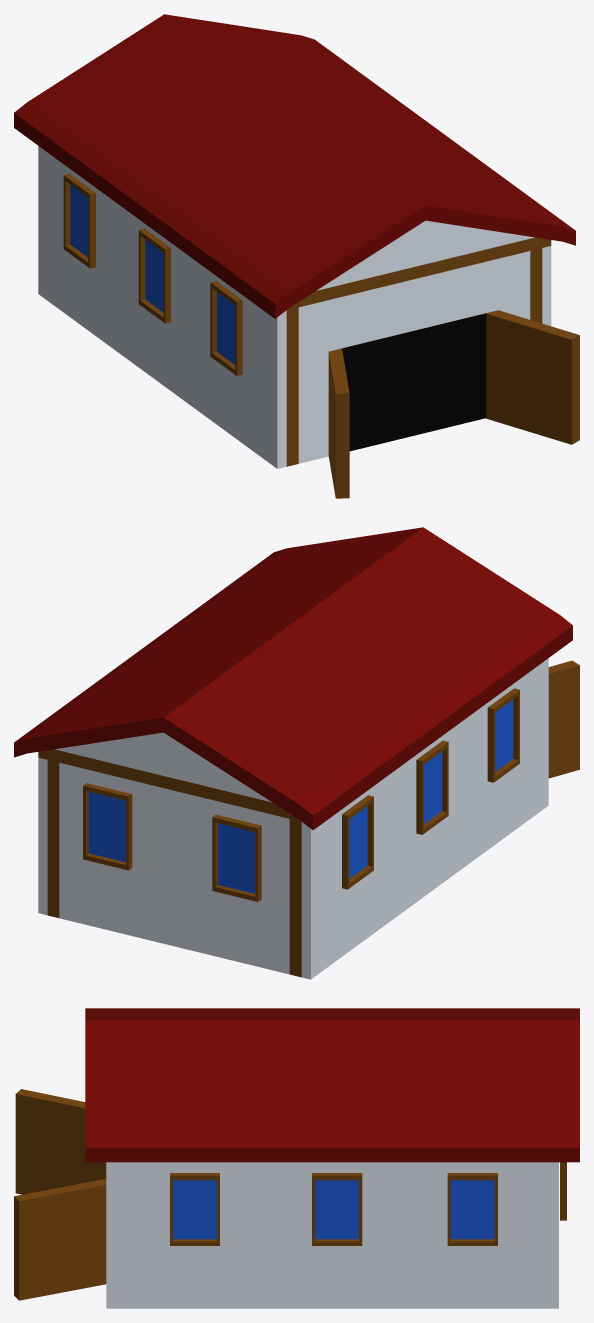
Rendered from barn.fbx.
3 renders of one model, top to bottom at view 1: azimuth 30°, elevation 25°; view 2: azimuth 150°, elevation 25°; view 3: azimuth 270°, elevation 25°, orthographic. The views are drawn at different scales.
Visible parts, largest first — view 1: Barn; view 2: Barn; view 3: Barn.
Part boxes in pixels (bbox=[...]): Barn: bbox=[14, 14, 579, 498]; Barn: bbox=[14, 527, 579, 979]; Barn: bbox=[14, 1008, 579, 1308].
Bounding box in the file's own units: 290 × 220 × 500.
